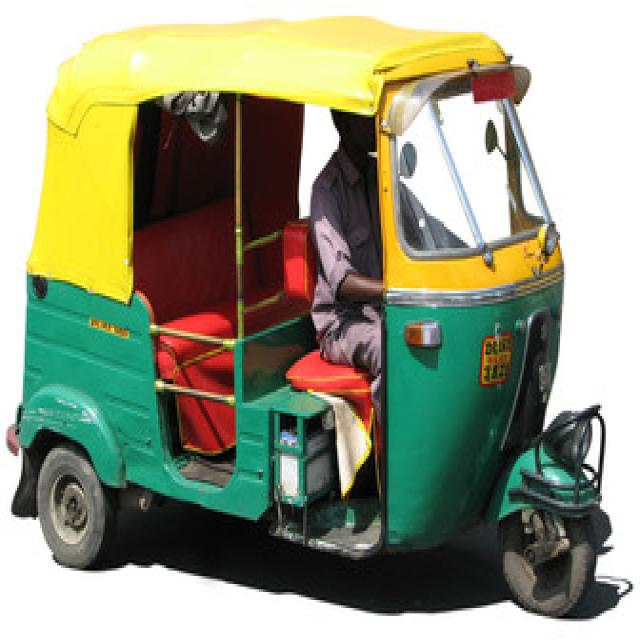person: (310, 109, 381, 421)
three wheeler: (10, 16, 604, 613)
